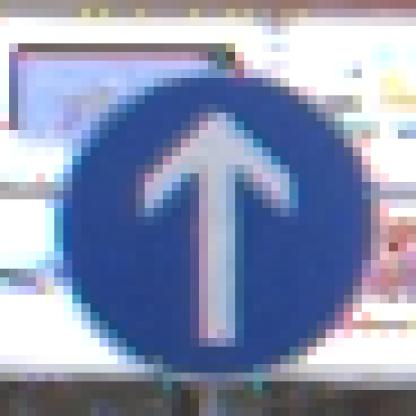AheadOnly: (46, 53, 372, 365)
